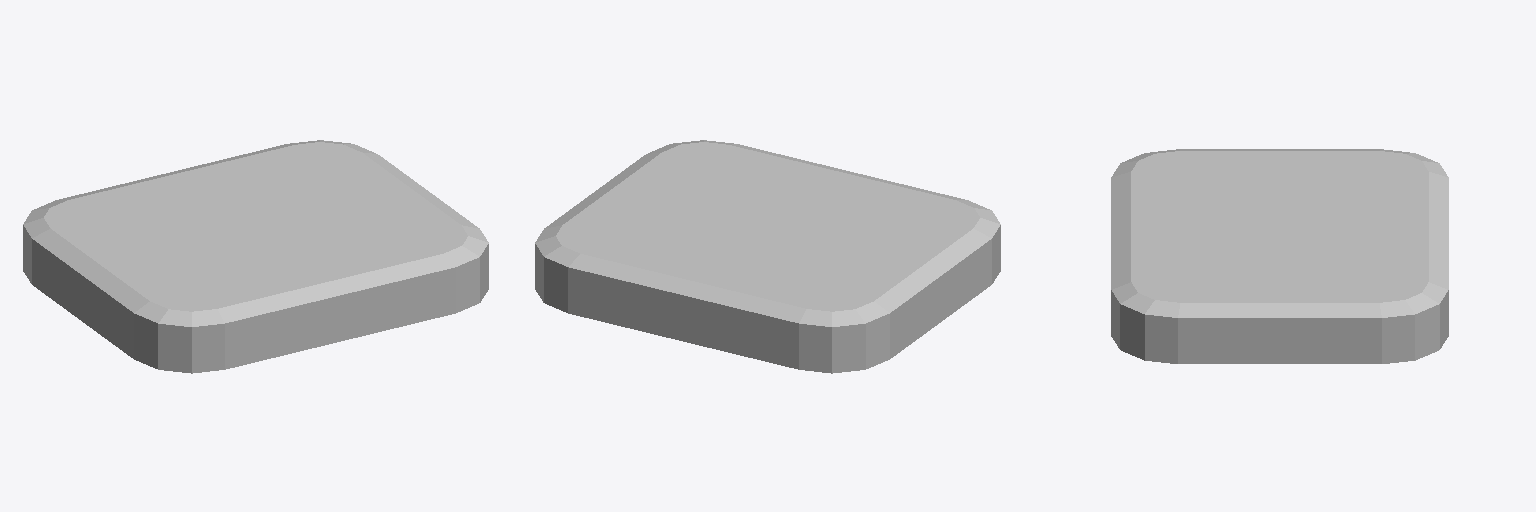
File: krabChairSeat2.obj
The picture shows the model from 3 angles: view 1: azimuth 30°, elevation 25°; view 2: azimuth 150°, elevation 25°; view 3: azimuth 270°, elevation 25°; orthographic projection.
Parts seen in each view (by area): view 1: Cube_Cube.005; view 2: Cube_Cube.005; view 3: Cube_Cube.005.
Part boxes in pixels (bbox=[...]): Cube_Cube.005: bbox=[23, 140, 488, 373]; Cube_Cube.005: bbox=[535, 140, 1000, 373]; Cube_Cube.005: bbox=[1111, 149, 1448, 363].
Bounding box in the file's own units: 1.92 × 0.3097 × 1.62.